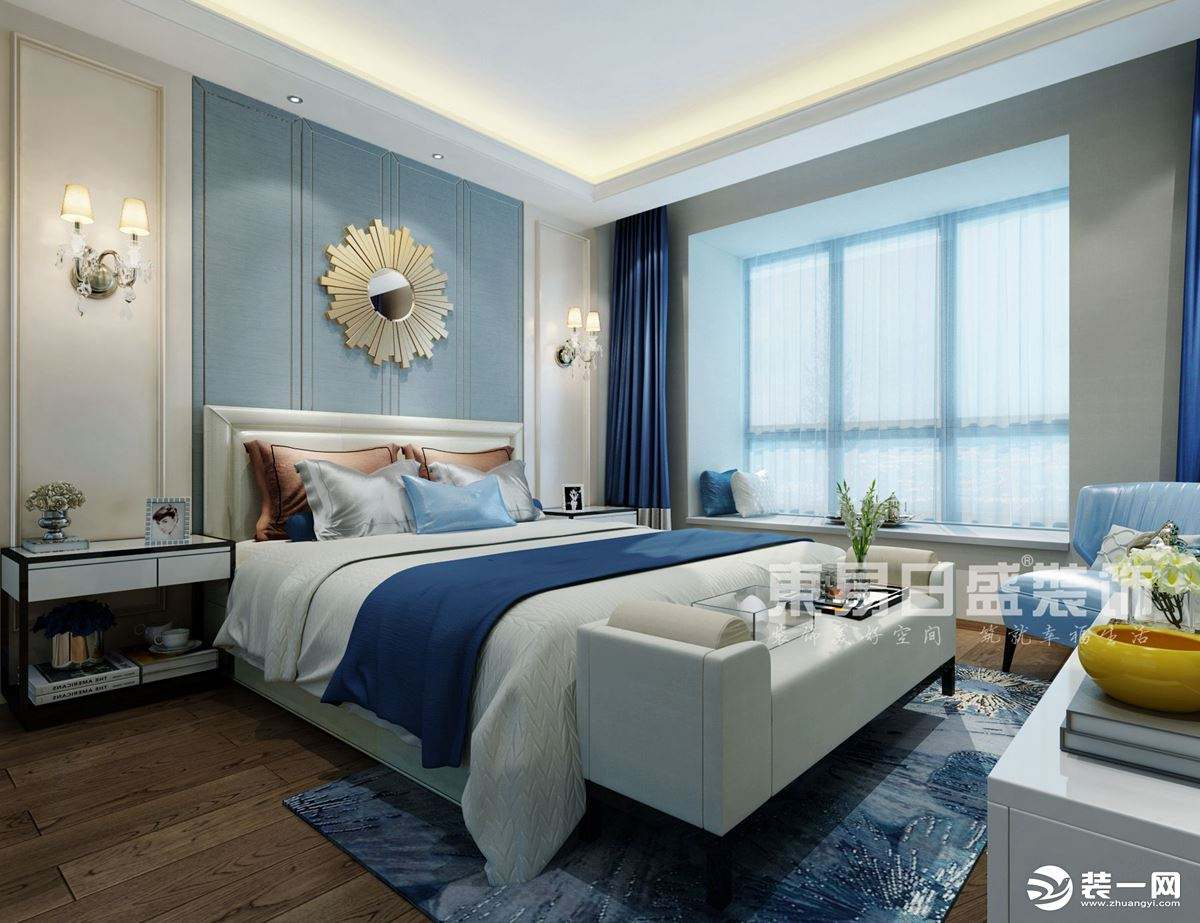床: (221, 515, 943, 844)
枕头: (259, 442, 540, 543), (1073, 626, 1199, 720)
灯: (53, 178, 145, 312), (554, 302, 610, 380), (280, 90, 307, 112), (419, 148, 448, 166)
